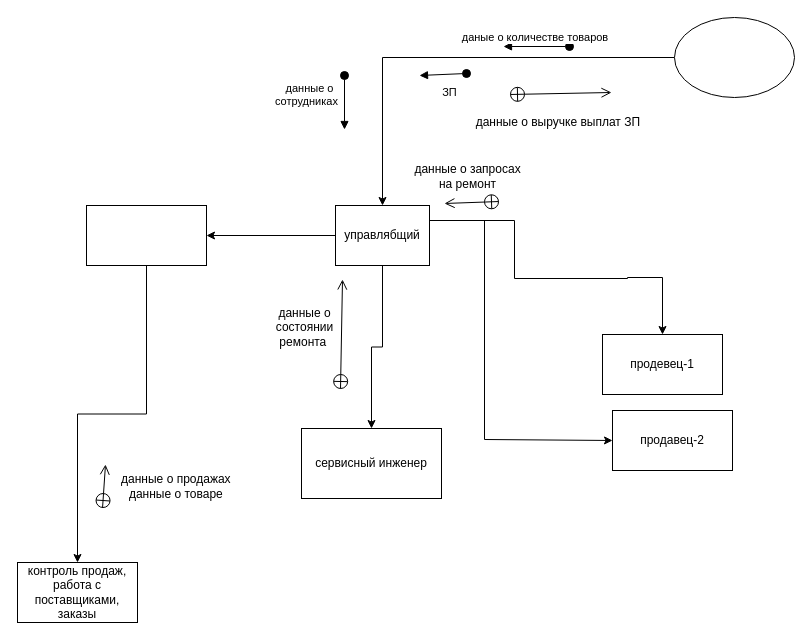
Some shapes in this 812 by 640 pixel diagram are drawn without their labels. The shapes that lost their labels are listed below. From the top down, each one's centre as x and y in pixels, then its label:
(734,57): БД
(146,235): открытие магазина
